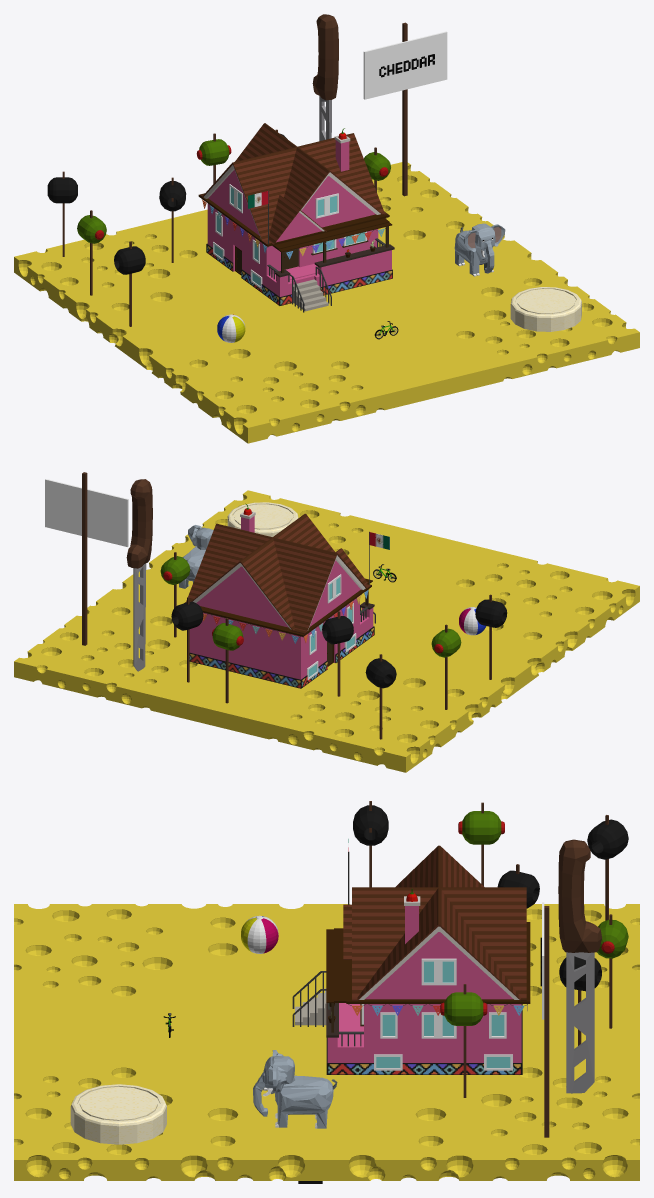
3 renders of one model, top to bottom at view 1: azimuth 30°, elevation 25°; view 2: azimuth 150°, elevation 25°; view 3: azimuth 270°, elevation 25°, orthographic. The views are drawn at different scales.
Visible parts, largest first — view 1: Cube.022, Cube.1005, Cube.023, Cylinder.016, Cube.024, ANIMAL_ELEFANTE, Sphere.017, Sphere.016, Sphere.020, Sphere.018, Sphere.022, OBJRANDOM_BEACHBALL (+1 smaller); view 2: Cube.022, Cube.1005, Cube.023, Cube.024, Cylinder.016, Sphere.020, ANIMAL_ELEFANTE, Sphere.016, Sphere.022, Sphere.017, Sphere.021, Sphere.018 (+2 smaller); view 3: Cube.022, Cube.1005, Cube.024, Cylinder.016, ANIMAL_ELEFANTE, Cube.023, Sphere.019, Sphere.016, Sphere.018, Sphere.017, Sphere.022, OBJRANDOM_BEACHBALL (+2 smaller).
Part boxes in pixels (left/top/right/bottom): Cube.022: left=14, top=162, right=639, bottom=443; Cube.1005: left=198, top=123, right=394, bottom=312; Cube.023: left=363, top=22, right=447, bottom=196; Cylinder.016: left=510, top=287, right=581, bottom=331; Cube.024: left=312, top=14, right=338, bottom=141; ANIMAL_ELEFANTE: left=454, top=223, right=505, bottom=276; Sphere.017: left=114, top=241, right=145, bottom=326; Sphere.016: left=47, top=171, right=77, bottom=256; Sphere.020: left=159, top=177, right=186, bottom=262; Sphere.018: left=77, top=210, right=106, bottom=295; Sphere.022: left=196, top=133, right=231, bottom=183; OBJRANDOM_BEACHBALL: left=217, top=314, right=245, bottom=342; Cube.022: left=14, top=490, right=639, bottom=772; Cube.1005: left=184, top=503, right=389, bottom=688; Cube.023: left=45, top=472, right=128, bottom=645; Cube.024: left=126, top=479, right=152, bottom=671; Cylinder.016: left=227, top=502, right=298, bottom=536; Sphere.020: left=322, top=611, right=353, bottom=696; ANIMAL_ELEFANTE: left=179, top=525, right=213, bottom=588; Sphere.016: left=365, top=654, right=396, bottom=739; Sphere.022: left=212, top=618, right=243, bottom=703; Sphere.017: left=475, top=594, right=507, bottom=679; Sphere.021: left=171, top=597, right=203, bottom=682; Sphere.018: left=431, top=624, right=461, bottom=709; Cube.022: left=14, top=904, right=639, bottom=1180; Cube.1005: left=292, top=839, right=530, bottom=1074; Cube.024: left=558, top=839, right=601, bottom=1093; Cylinder.016: left=70, top=1084, right=166, bottom=1144; ANIMAL_ELEFANTE: left=253, top=1050, right=337, bottom=1128; Cube.023: left=540, top=902, right=549, bottom=1137; Sphere.019: left=440, top=984, right=487, bottom=1097; Sphere.016: left=587, top=815, right=628, bottom=920; Sphere.018: left=458, top=802, right=504, bottom=885; Sphere.017: left=353, top=801, right=388, bottom=887; Sphere.022: left=597, top=914, right=628, bottom=1028; OBJRANDOM_BEACHBALL: left=241, top=915, right=278, bottom=953.
Bounding box in the file's own units: 3917 × 2015 × 4000.
Materials: 70 (5 with a texture image).
